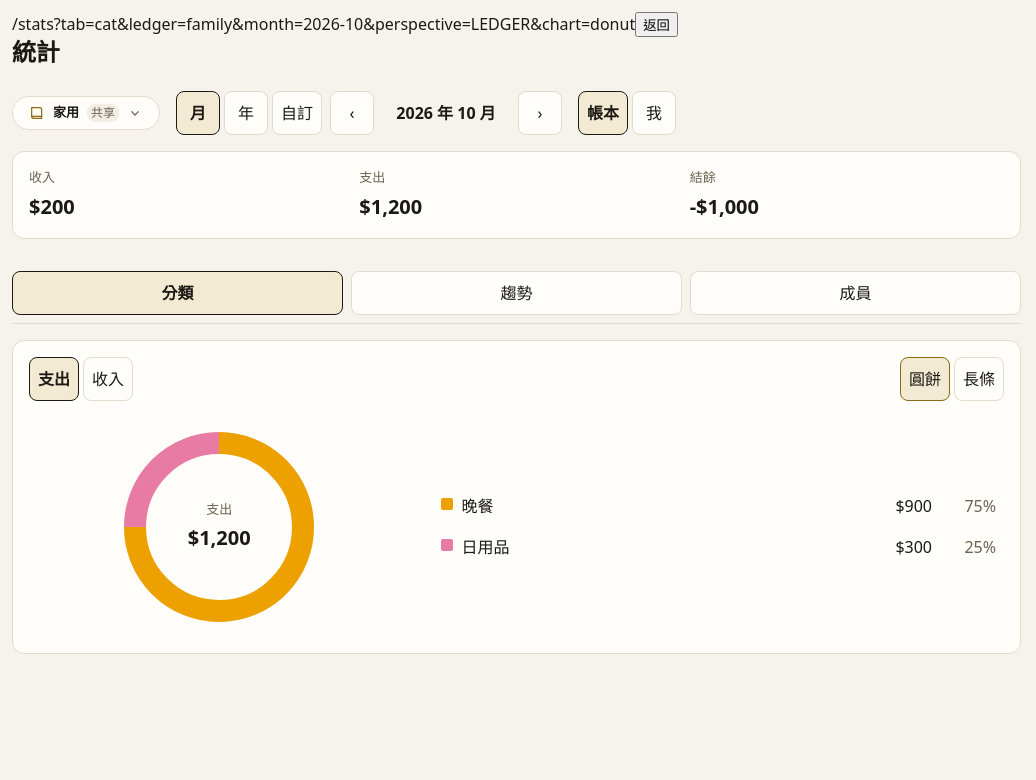
Test: StatsPage › never keeps the previous ledger chart while loading a new ledger
Expected: the list named "支出分類清單" is shown, [433,486,1004,567]
Click the button "家用 共享".
click(86, 113)  # box [12,96,160,130]
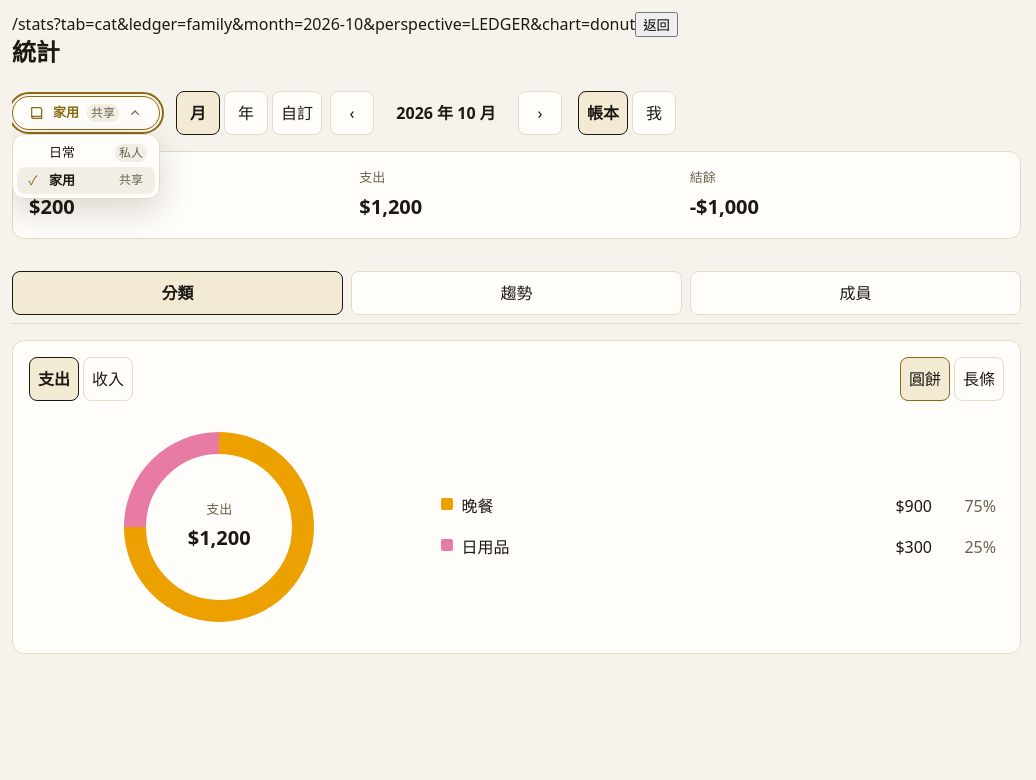
Click the option "日常 私人".
click(131, 153)  # box [49,143,147,162]
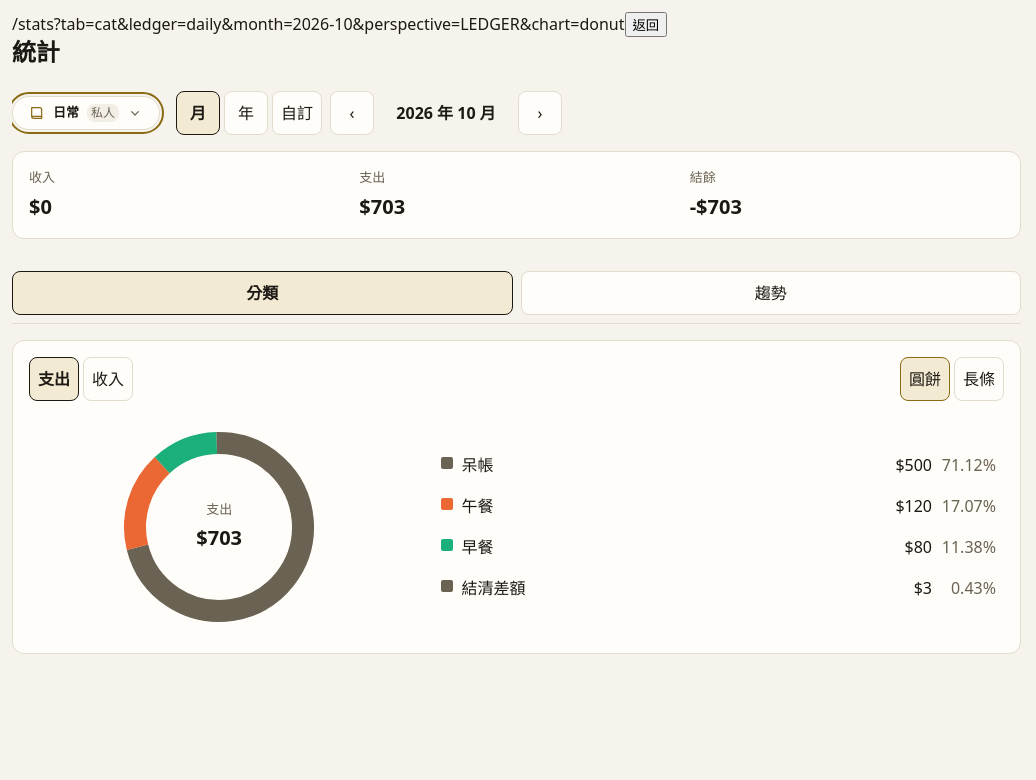
Expected: the button "晚餐" is gone
Expected: the text "$1,200" is gone
Expected: the text "呆帳" is shown, [461,454,493,476]
